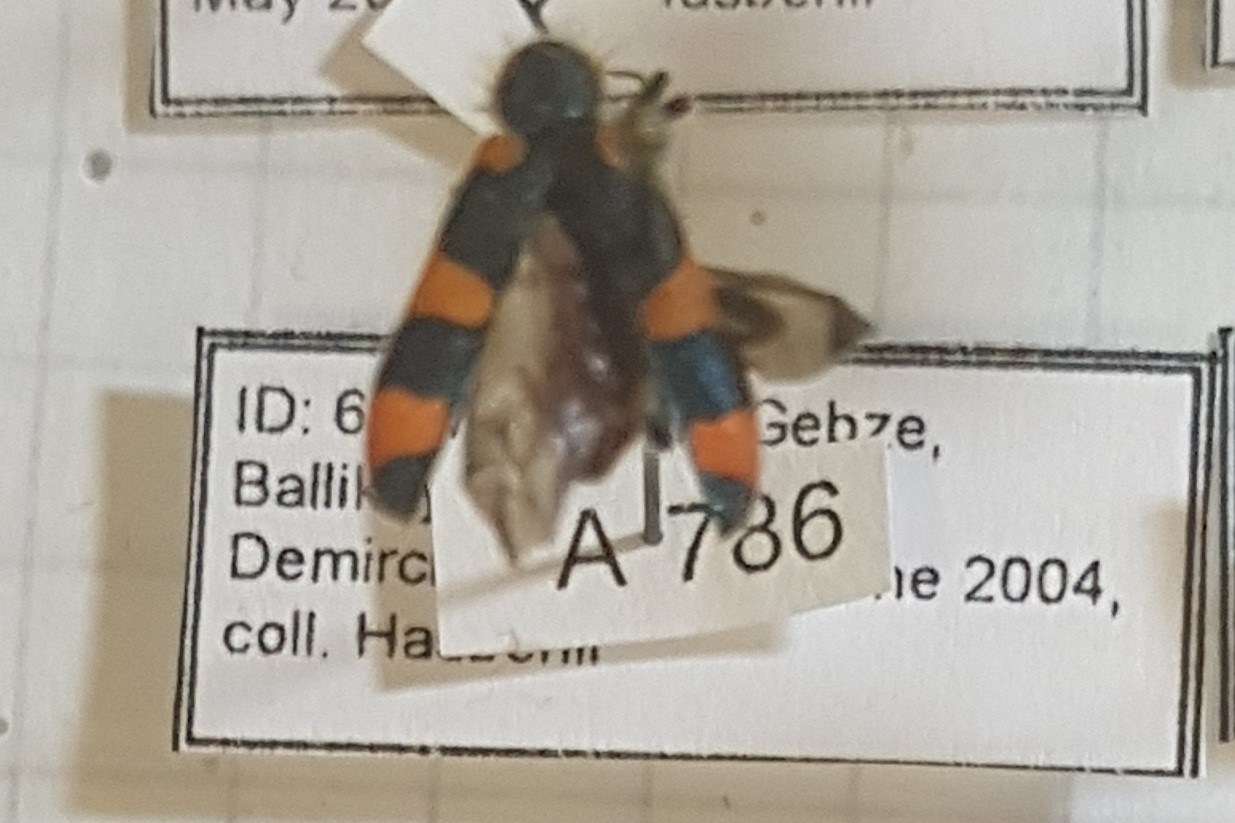trichodes_holtzi: (360, 18, 817, 574)
